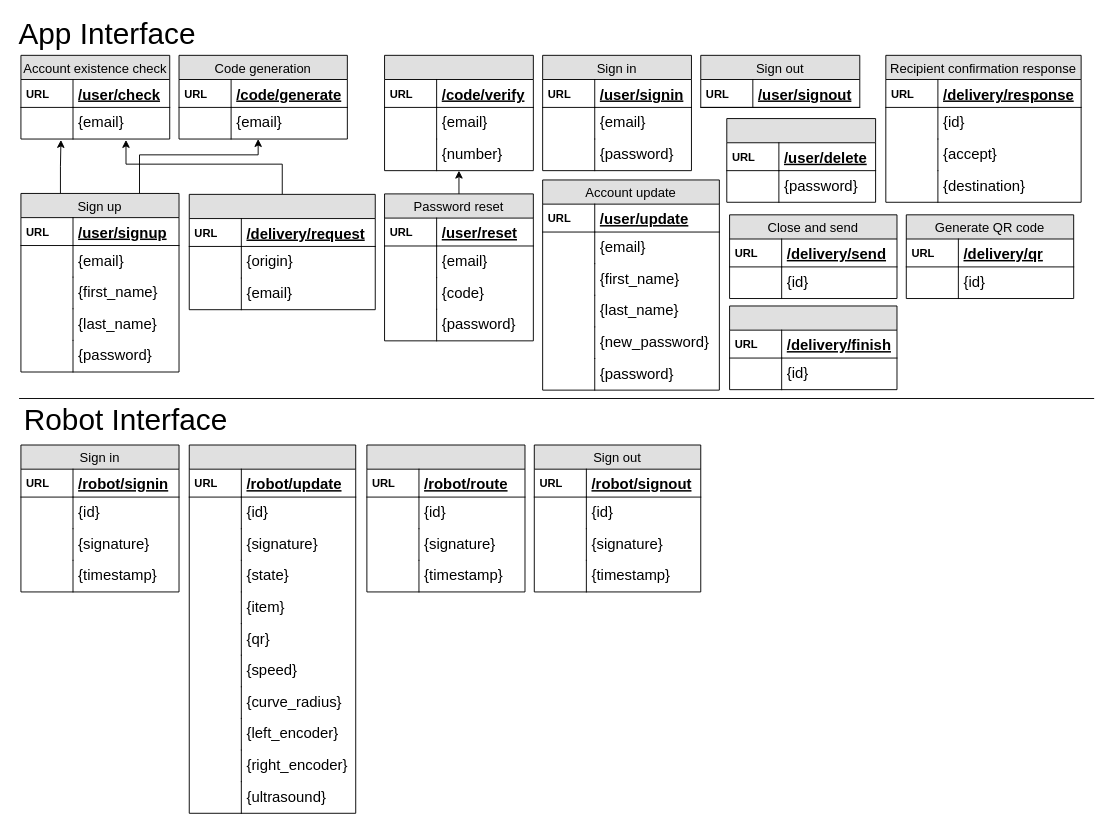
The diagram is 1111 pixels wide and 831 high, and some of its shapes have lost their labels. Here are the shapes that lost their labels. From the top down, the box of each, then its label:
(384, 54, 533, 171): Code verification
(726, 118, 876, 202): Account deletion
(188, 193, 375, 310): Recipient confirmation request
(729, 305, 897, 390): Close and finish
(366, 444, 525, 592): Alternative route request
(188, 444, 356, 813): State update
